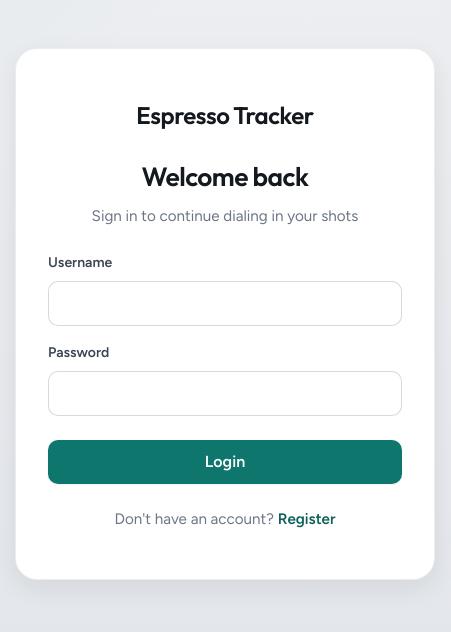
Test: Login › should display error message on login failure
Step 1. Type "testuser" into the field labelled "Username" → (225, 303), box [48,281,402,326]
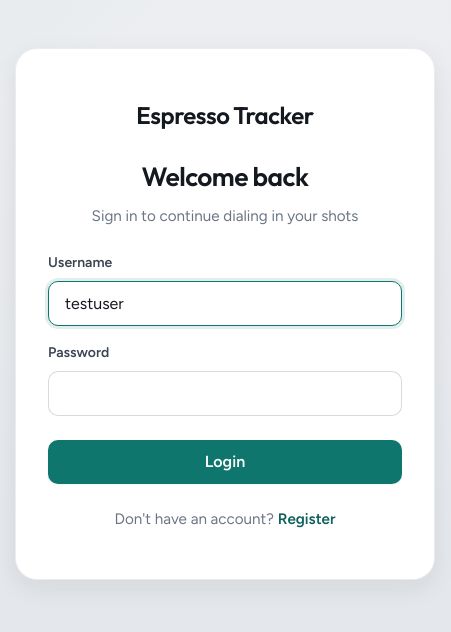
Step 2. Type "wrongpassword" into the password field labelled "Password" → (225, 393), box [48,371,402,416]
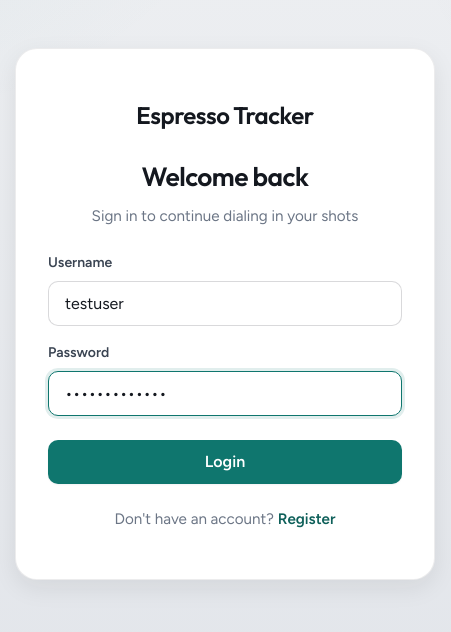
Step 3. Click the button "Login" → (225, 462), box [48,440,402,484]
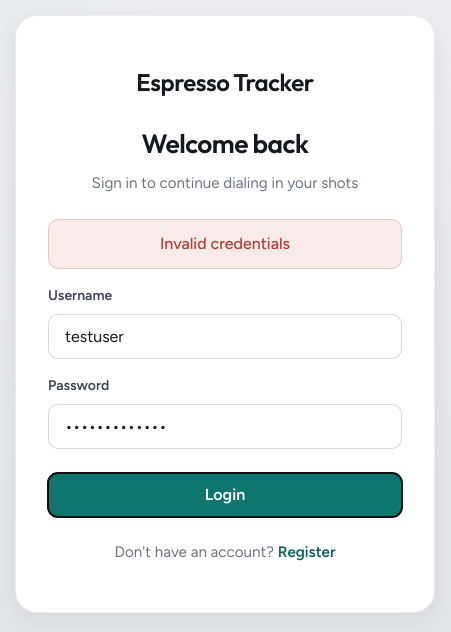
Now the text "Invalid credentials" is shown, box [48,219,402,269]
